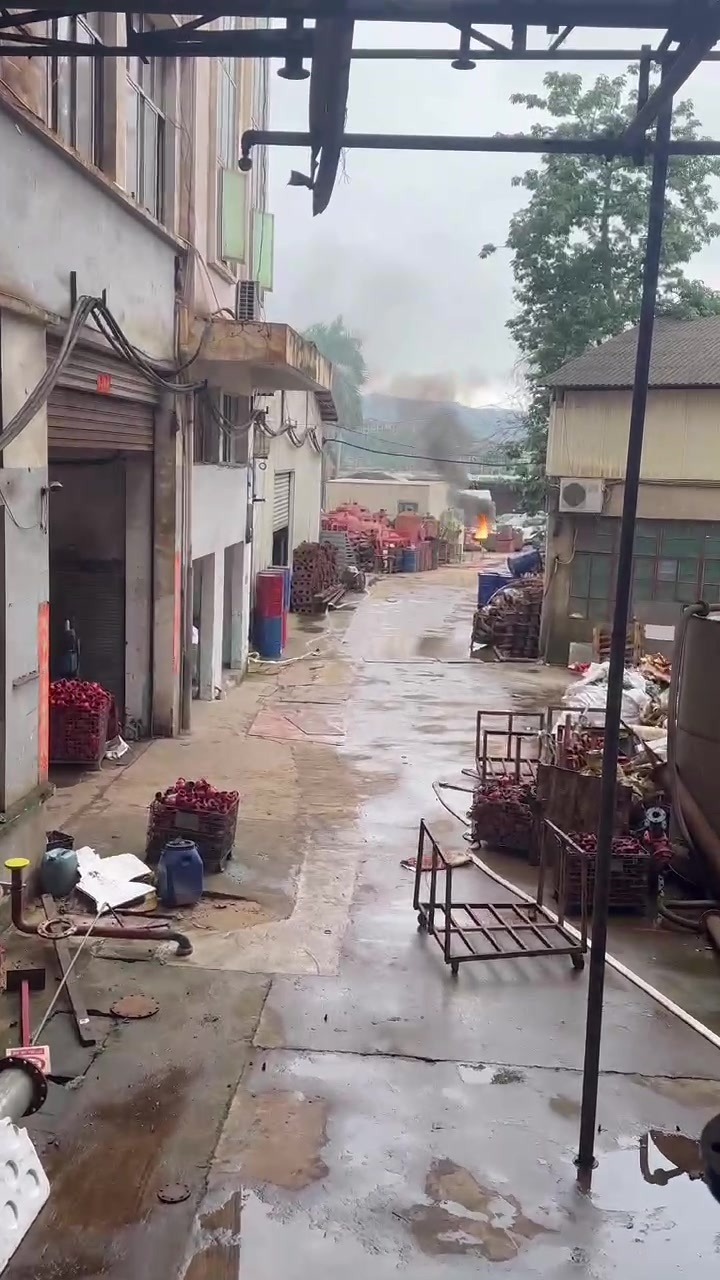fire: (474, 515, 487, 537)
